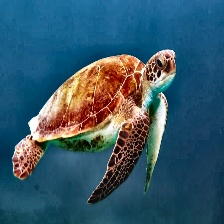seaturtle: (13, 49, 178, 205)
